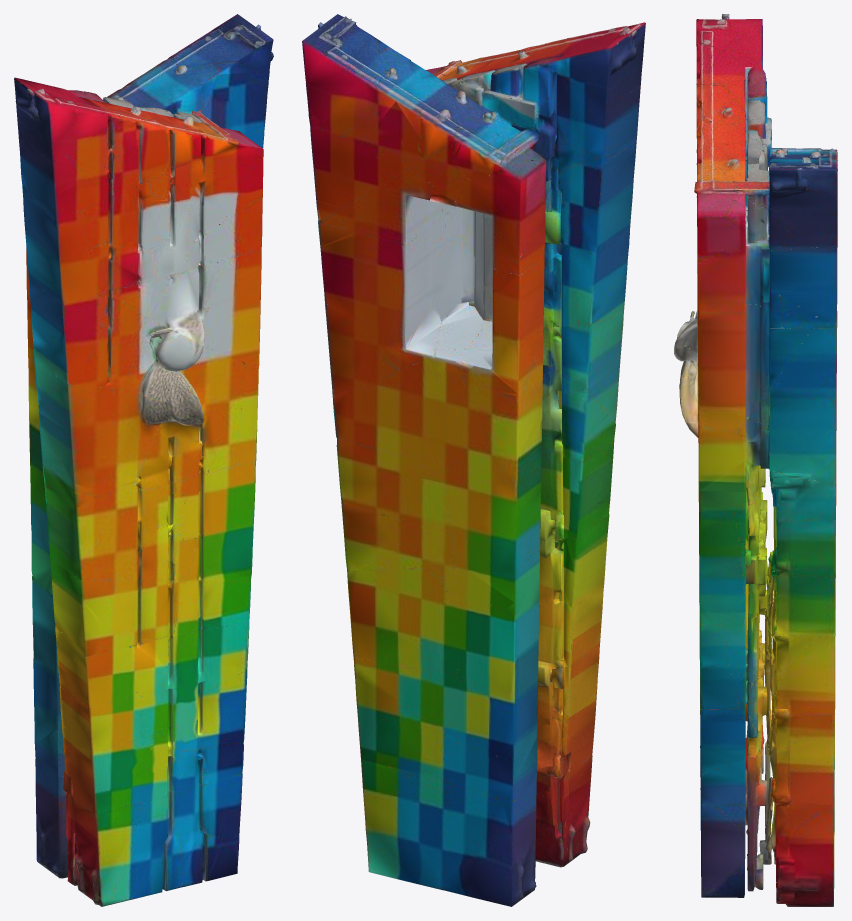
The model's file is ventana.glb.
3 renders of one model, left to right at view 1: azimuth 30°, elevation 25°; view 2: azimuth 150°, elevation 25°; view 3: azimuth 270°, elevation 25°, orthographic. The views are drawn at different scales.
Parts seen in each view (by area): view 1: mesh_node; view 2: mesh_node; view 3: mesh_node.
Boxes of the visible parts, box(x1,y1,x2,y2) form: mesh_node: box(14, 14, 273, 906); mesh_node: box(302, 14, 645, 906); mesh_node: box(674, 14, 837, 906).
Bounding box in the file's own units: 0.6547 × 1.9 × 0.3542.
1 material, 1 textured.
